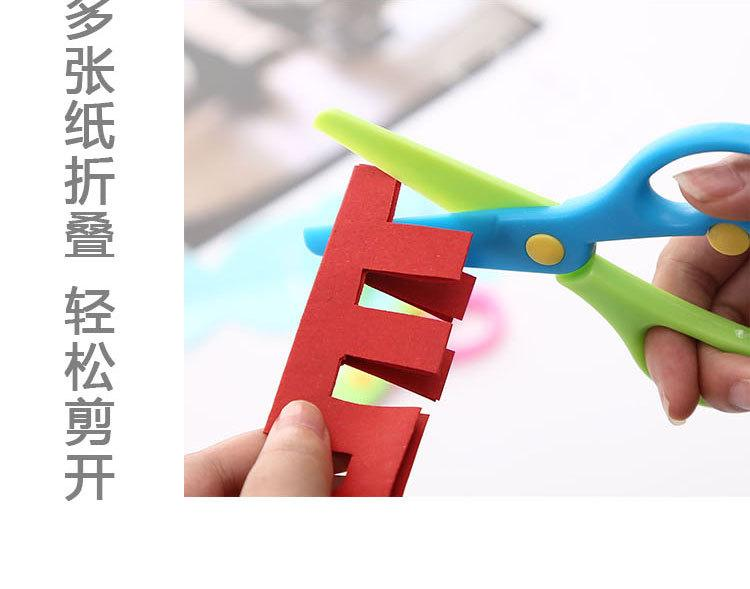scissor: (310, 77, 750, 432)
